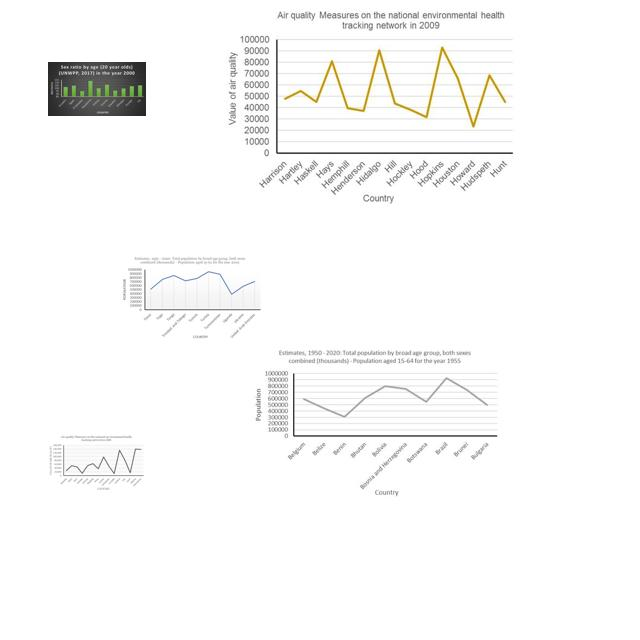Graph: (221, 6, 519, 207), (248, 346, 503, 497), (119, 254, 263, 339), (48, 434, 145, 491), (48, 62, 146, 116)
